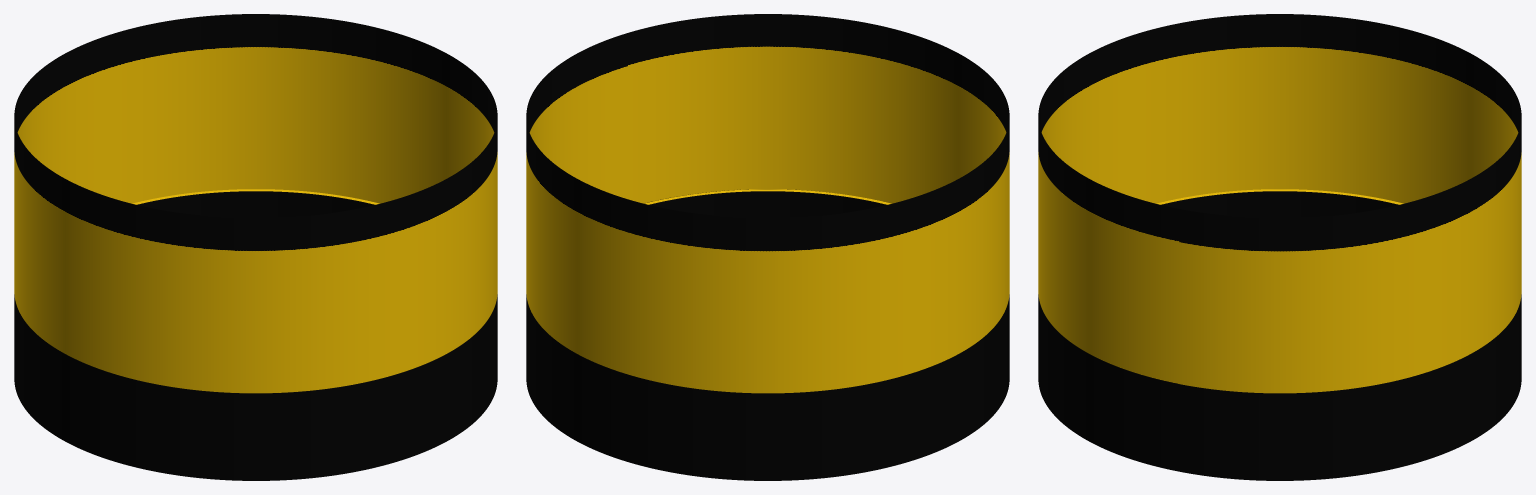
The model's file is Boss Wall.fbx.
The picture shows the model from 3 angles, left to right: view 1: azimuth 30°, elevation 25°; view 2: azimuth 150°, elevation 25°; view 3: azimuth 270°, elevation 25°; orthographic projection.
Visible parts, largest first — view 1: Wall, Flat Border; view 2: Wall, Flat Border; view 3: Wall, Flat Border.
Boxes of the visible parts, x1,y1,x2,y2 form: Wall: (14, 14, 497, 480); Flat Border: (132, 189, 379, 204); Wall: (526, 14, 1009, 480); Flat Border: (644, 189, 891, 204); Wall: (1038, 14, 1521, 480); Flat Border: (1156, 189, 1403, 204).
Bounding box in the file's own units: 10000 × 6000 × 10000.
